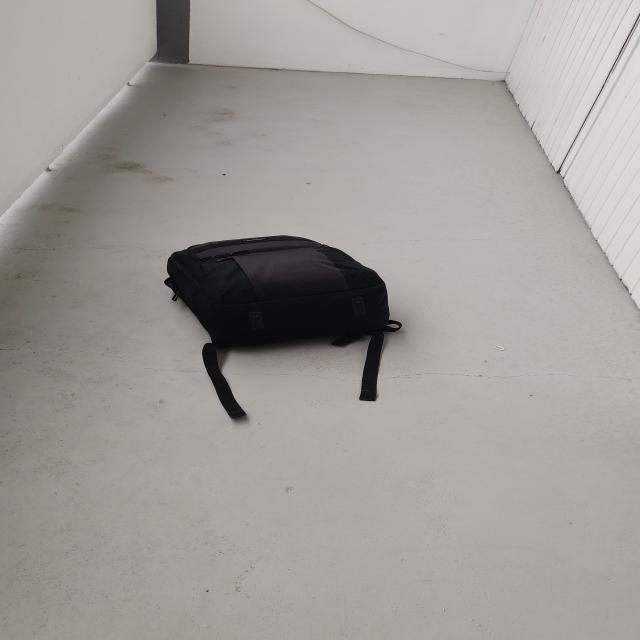backpack: (154, 231, 402, 355)
